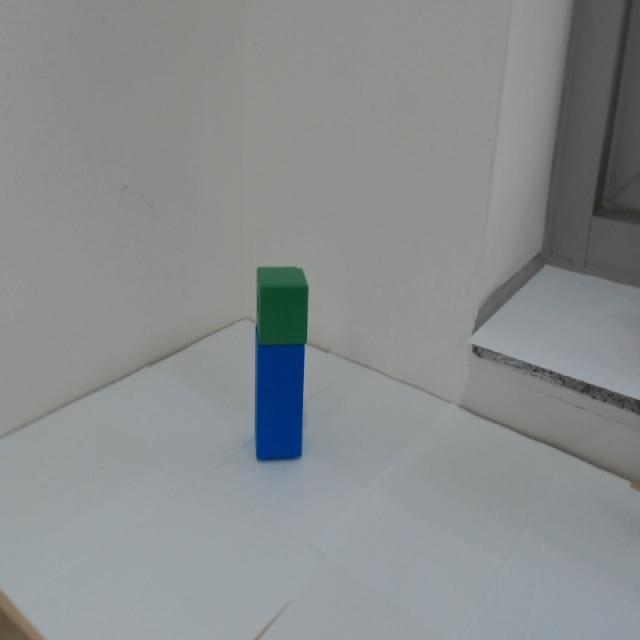cube: (250, 259, 317, 351)
